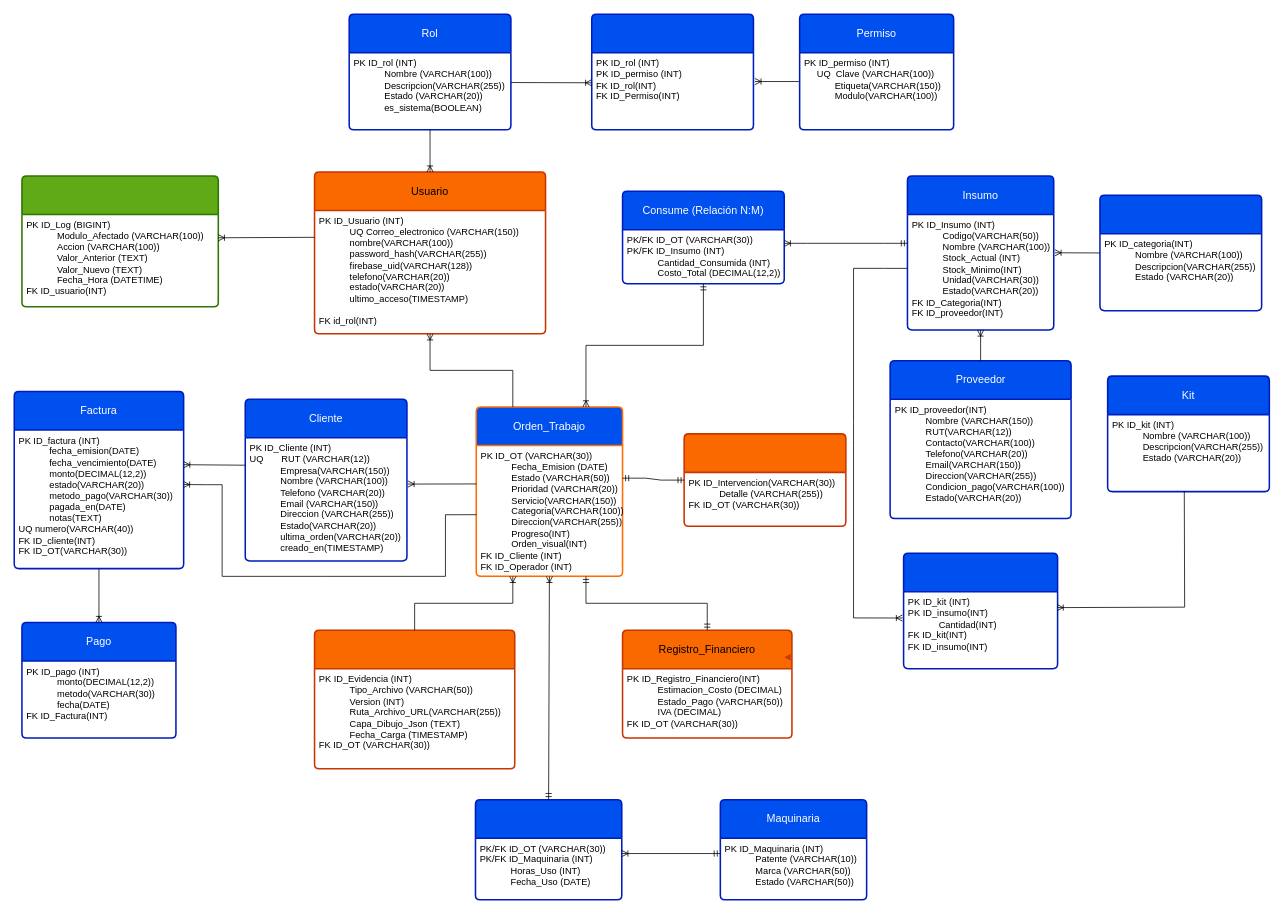
Image size: 1283x913. Some labels were removed from this diagram. Each missing label, with the box of its shape:
Bitácora_Auditoria: (21, 175, 219, 307)
Categoria_insumo: (1099, 194, 1262, 311)
Evidencia_Multimedia: (313, 629, 515, 769)
Intervención: (683, 433, 846, 527)
Kit_Item: (902, 552, 1058, 669)
Rol_permiso: (591, 13, 754, 130)
Utiliza (Relación N:M): (474, 798, 622, 900)
